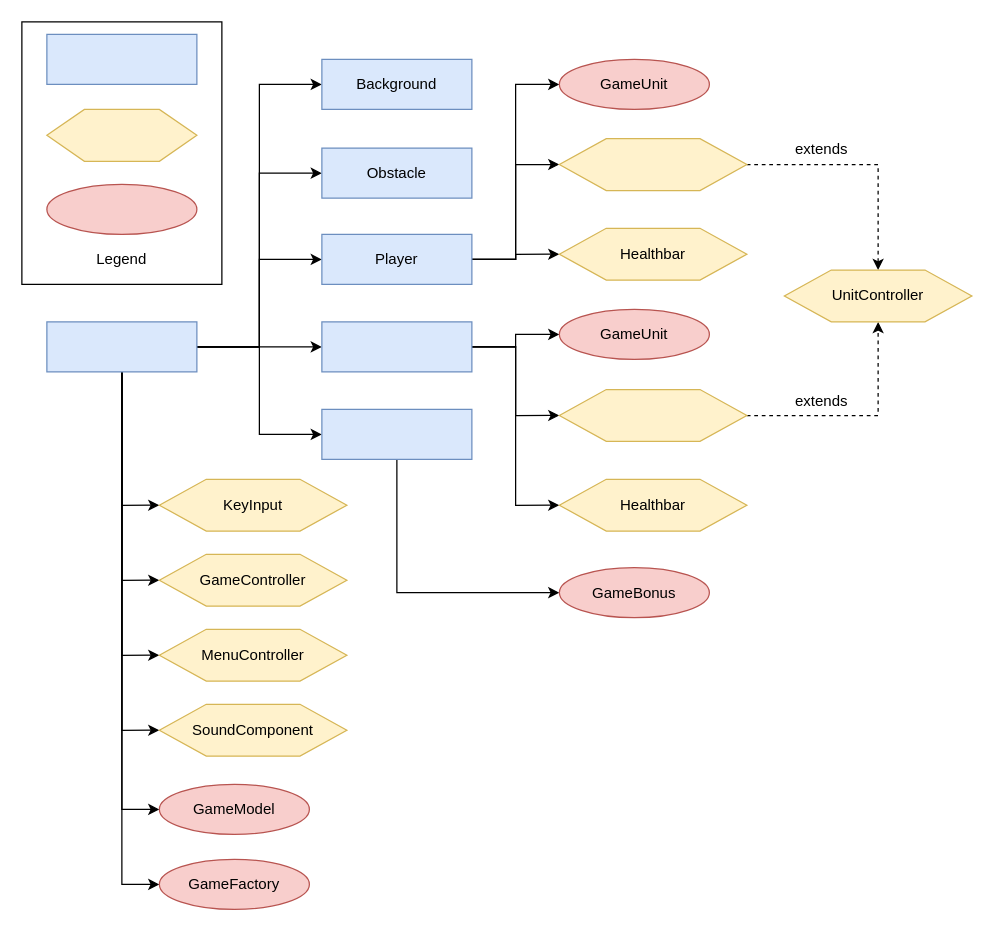
This 994x931 diagram has some shape labels left out. The shapes that lost their labels are listed below. From the top down, each one's centre as x and y in pixels, then its label:
the point at 121,58: Entity
the point at 121,134: Component
the point at 652,163: PlayerController
the point at 121,208: Attribute
the point at 121,346: Stage
the point at 396,346: Enemy
the point at 396,433: Bonus
the point at 652,414: EnemyController
